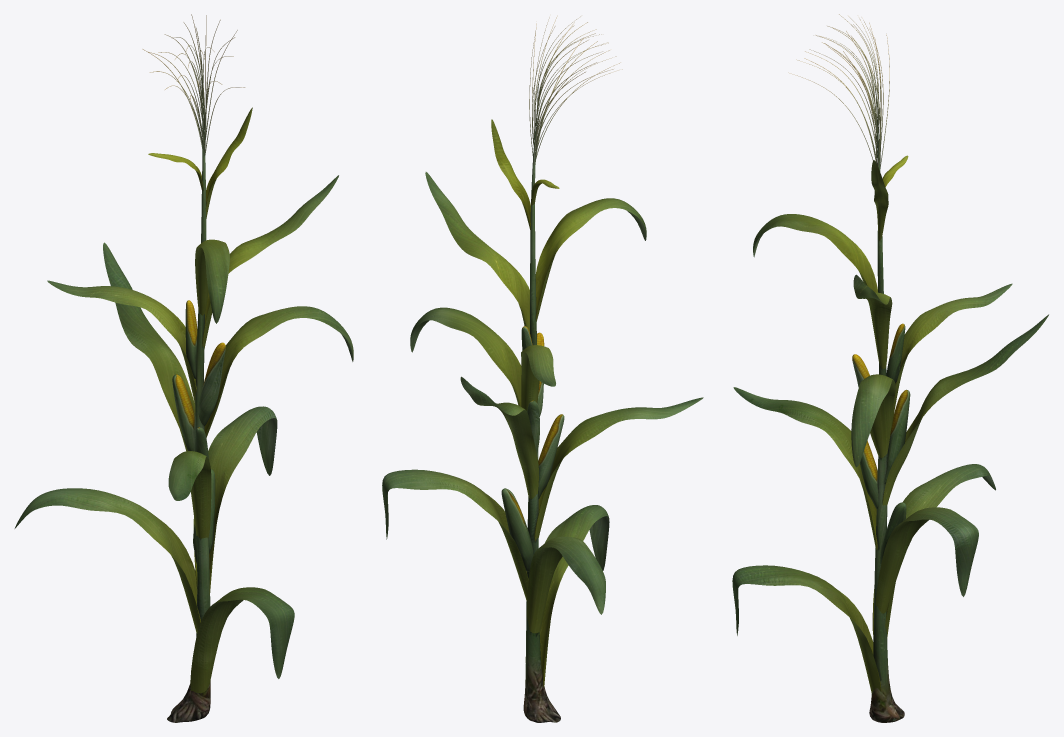
Rendered from cornstage3.fbx.
3 renders of one model, left to right at view 1: azimuth 30°, elevation 25°; view 2: azimuth 150°, elevation 25°; view 3: azimuth 270°, elevation 25°, orthographic. The views are drawn at different scales.
Parts seen in each view (by area): view 1: CornStage3; view 2: CornStage3; view 3: CornStage3.
Boxes of the visible parts, x1=… form: CornStage3: x1=14, y1=14, x2=353, y2=722; CornStage3: x1=382, y1=15, x2=703, y2=722; CornStage3: x1=732, y1=14, x2=1048, y2=722.
Size of the model in its own units: 116 by 294 by 121.
Materials: 1 (1 with a texture image).
